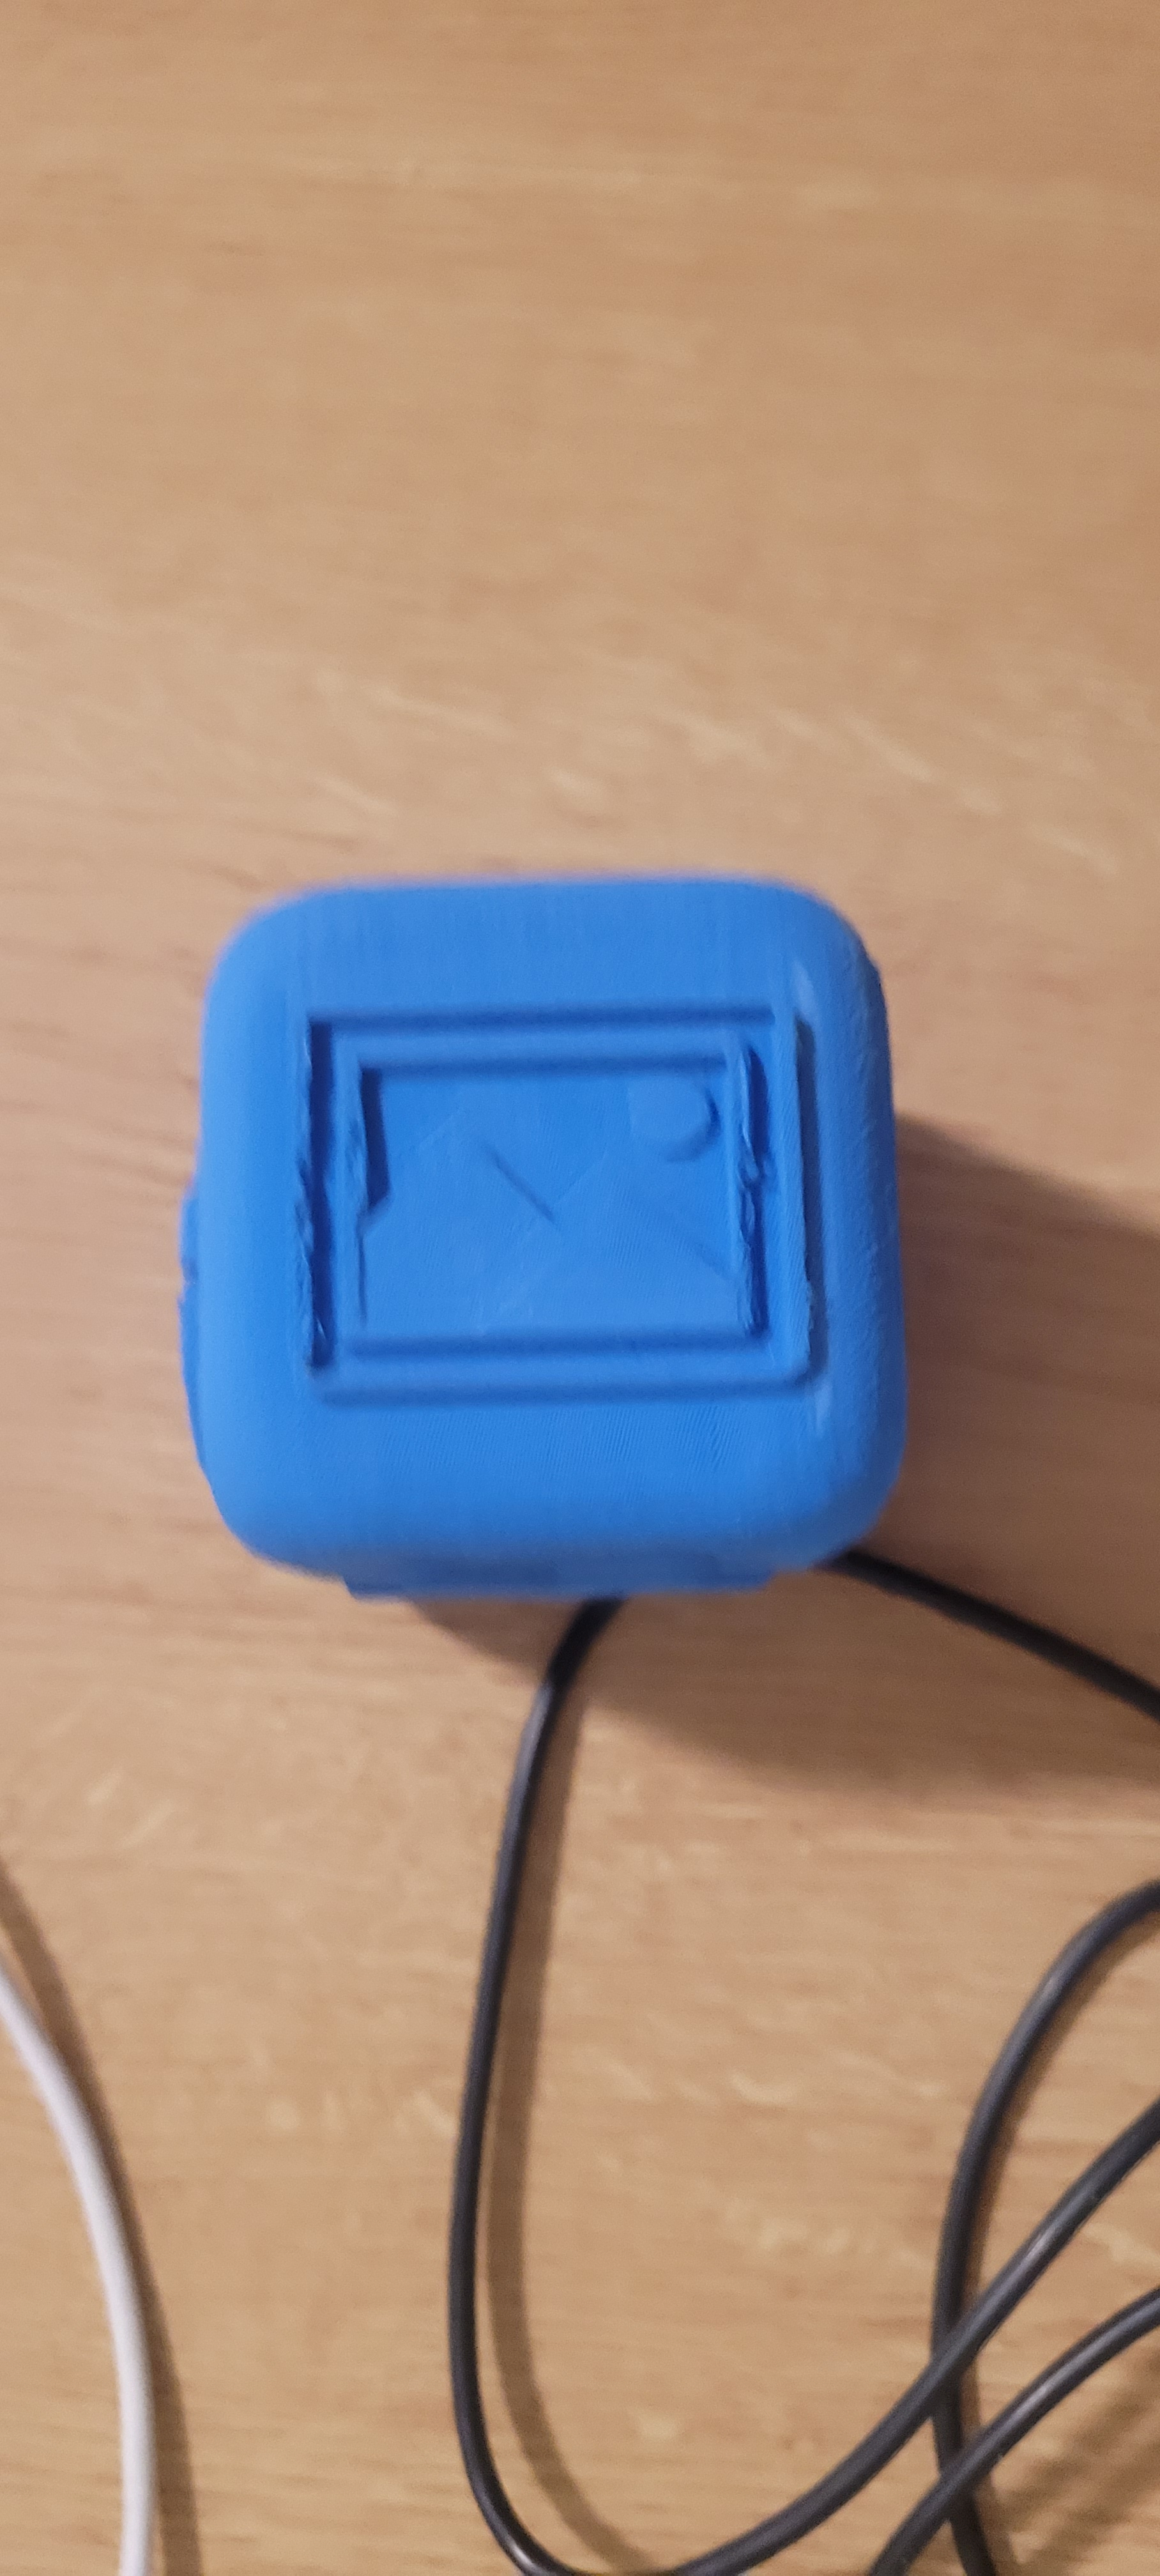Story: (278, 950, 861, 1428)
